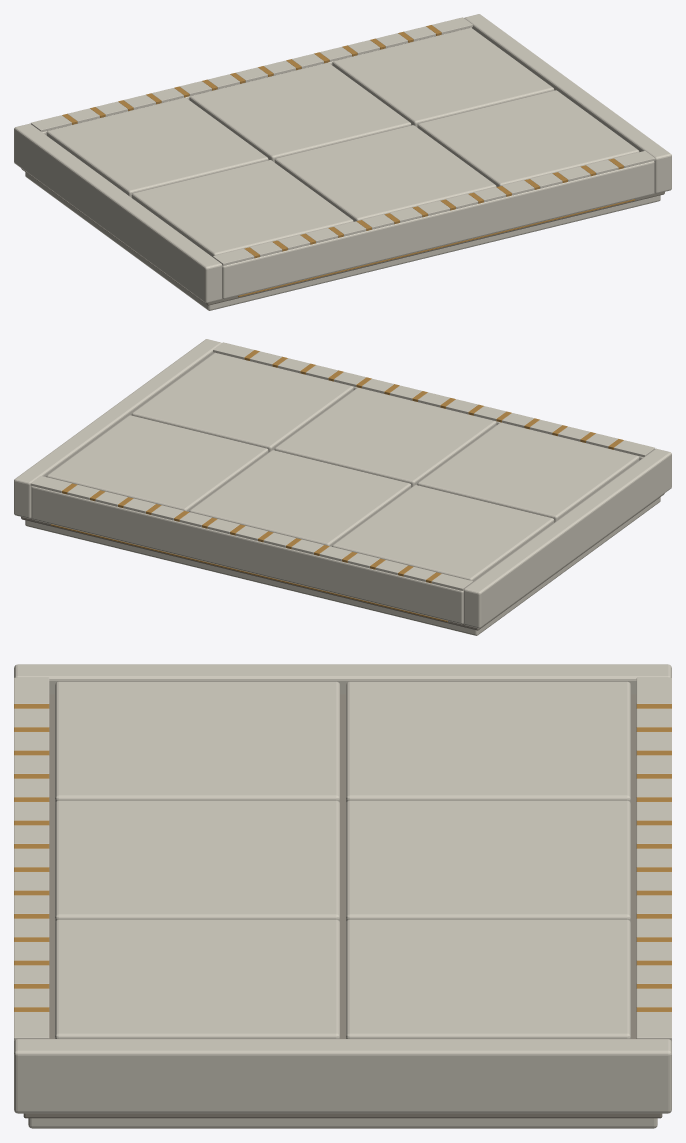
File: SM_Aurelion_KIT_Z06FlankLanding.fbx
The picture shows the model from 3 angles, top to bottom: view 1: azimuth 30°, elevation 25°; view 2: azimuth 150°, elevation 25°; view 3: azimuth 270°, elevation 25°; orthographic projection. The views are drawn at different scales.
Visible parts, largest first — view 1: SM_Aurelion_KIT_Z06FlankLanding; view 2: SM_Aurelion_KIT_Z06FlankLanding; view 3: SM_Aurelion_KIT_Z06FlankLanding.
Part boxes in pixels (x1,y1,x2,y2): SM_Aurelion_KIT_Z06FlankLanding: [14, 14, 671, 310]; SM_Aurelion_KIT_Z06FlankLanding: [14, 339, 671, 635]; SM_Aurelion_KIT_Z06FlankLanding: [14, 664, 671, 1128].
Size of the model in its own units: 200 by 143 by 20.
